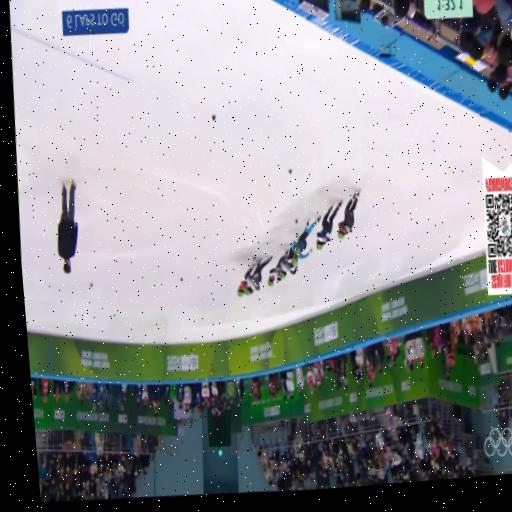Skater: (292, 216, 320, 264), (238, 257, 271, 296), (317, 201, 342, 249), (338, 189, 359, 239), (267, 250, 288, 285), (280, 247, 297, 278)
